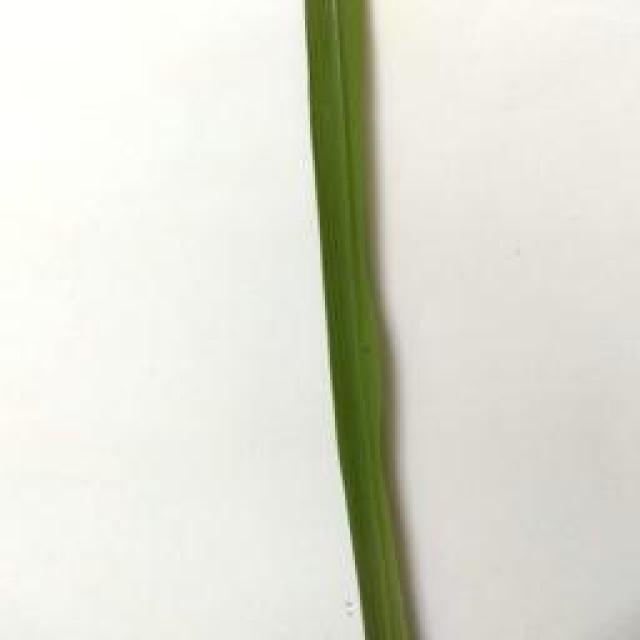Healthy-Plant: (299, 0, 421, 640)
